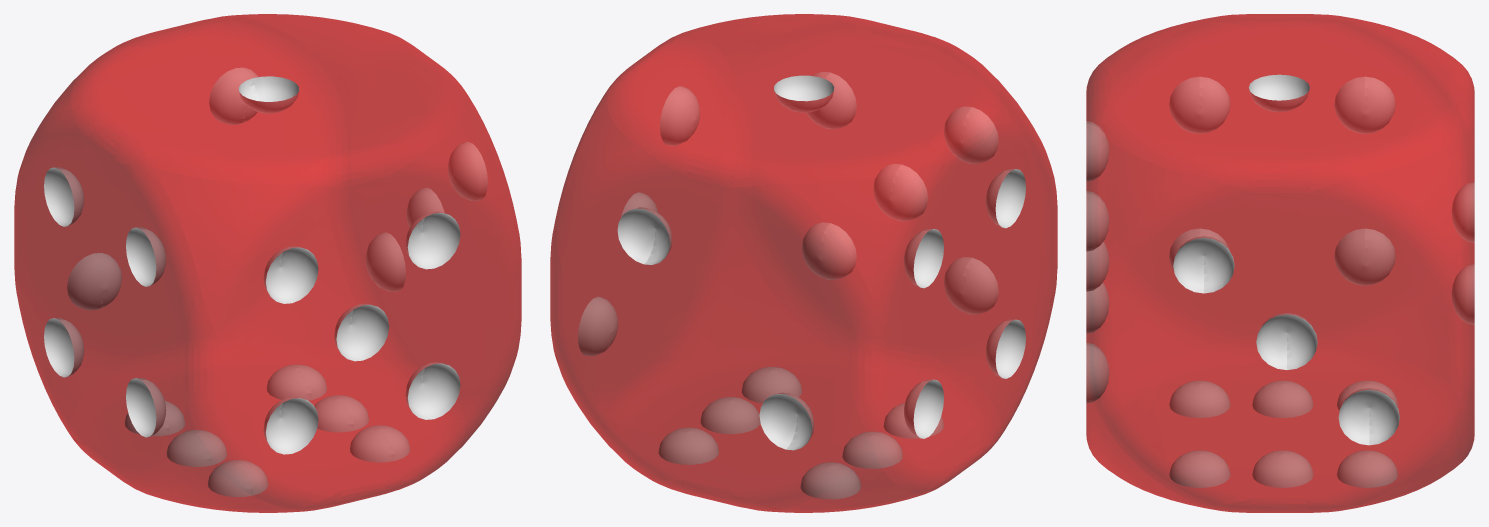
Rendered from d6_pipped_rounded.fbx.
3 views of the same model, side by side, from view 1: azimuth 30°, elevation 25°; view 2: azimuth 150°, elevation 25°; view 3: azimuth 270°, elevation 25° (orthographic).
Visible parts, largest first — view 1: unnamed; view 2: unnamed; view 3: unnamed.
Boxes of the visible parts, bbox=[...] form: unnamed: bbox=[14, 14, 521, 512]; unnamed: bbox=[550, 14, 1057, 512]; unnamed: bbox=[1086, 14, 1474, 512].
Bounding box in the file's own units: 0.0417 × 0.0417 × 0.0417.
